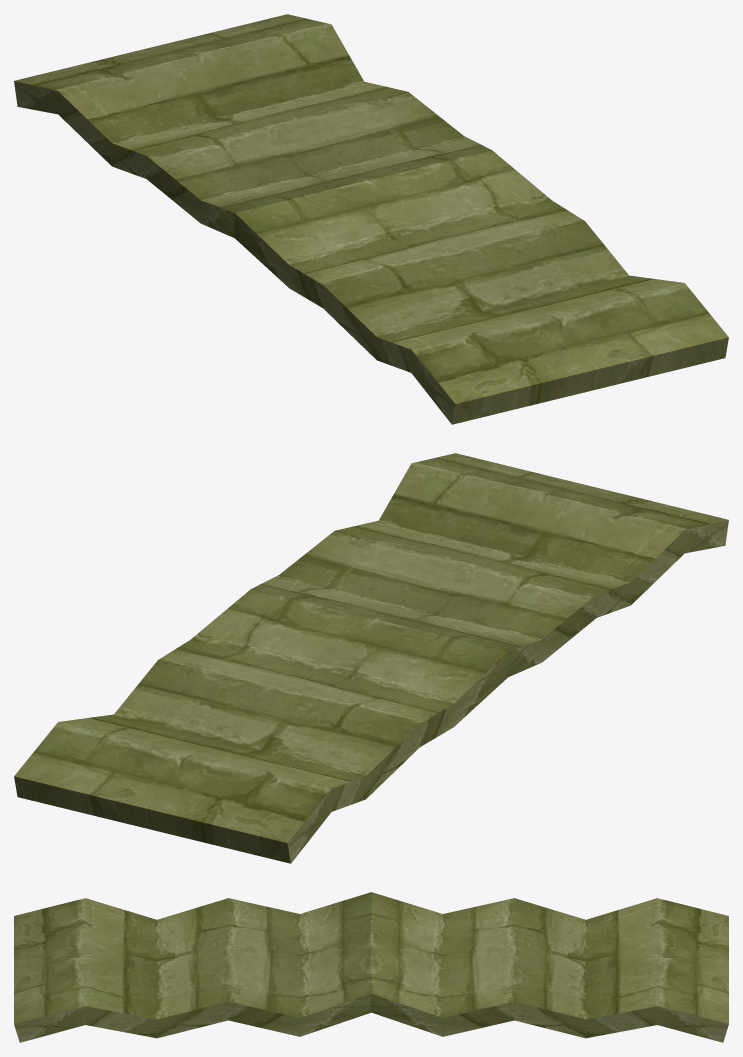
File: shamo_wujian_dataijie.fbx
3 renders of one model, top to bottom at view 1: azimuth 30°, elevation 25°; view 2: azimuth 150°, elevation 25°; view 3: azimuth 270°, elevation 25°, orthographic. The views are drawn at different scales.
Visible parts, largest first — view 1: polySurface276, polySurface275; view 2: polySurface275, polySurface276; view 3: polySurface276, polySurface275.
Boxes of the visible parts, bbox=[...] form: polySurface276: bbox=[234, 150, 728, 424]; polySurface275: bbox=[14, 14, 491, 237]; polySurface275: bbox=[14, 589, 508, 863]; polySurface276: bbox=[251, 453, 728, 676]; polySurface276: bbox=[14, 892, 371, 1042]; polySurface275: bbox=[371, 892, 728, 1042].
Bounding box in the file's own units: 1 × 0.1847 × 2.8.
